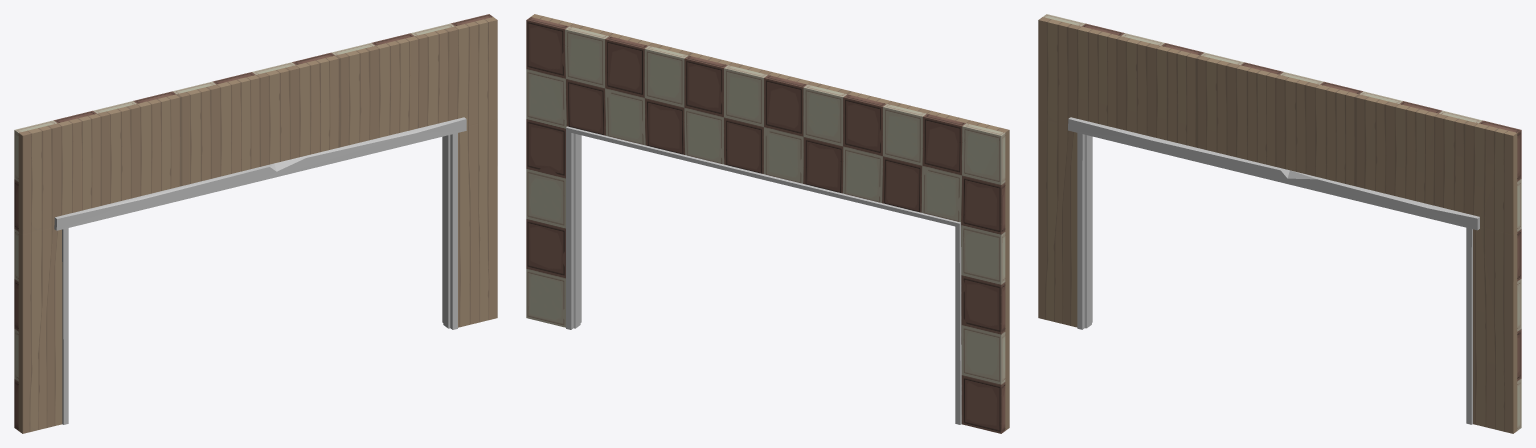
Rendered from SM_Bld_ShopFront_08_Larger.fbx.
3 renders of one model, left to right at view 1: azimuth 30°, elevation 25°; view 2: azimuth 150°, elevation 25°; view 3: azimuth 330°, elevation 25°, orthographic.
Visible parts, largest first — view 1: SM_Bld_ShopFront_08_Larger; view 2: SM_Bld_ShopFront_08_Larger; view 3: SM_Bld_ShopFront_08_Larger.
Boxes of the visible parts, x1,y1,x2,y2 form: SM_Bld_ShopFront_08_Larger: [14, 14, 497, 433]; SM_Bld_ShopFront_08_Larger: [526, 14, 1009, 433]; SM_Bld_ShopFront_08_Larger: [1038, 14, 1521, 433].
Bounding box in the file's own units: 750 × 450 × 32.45.
